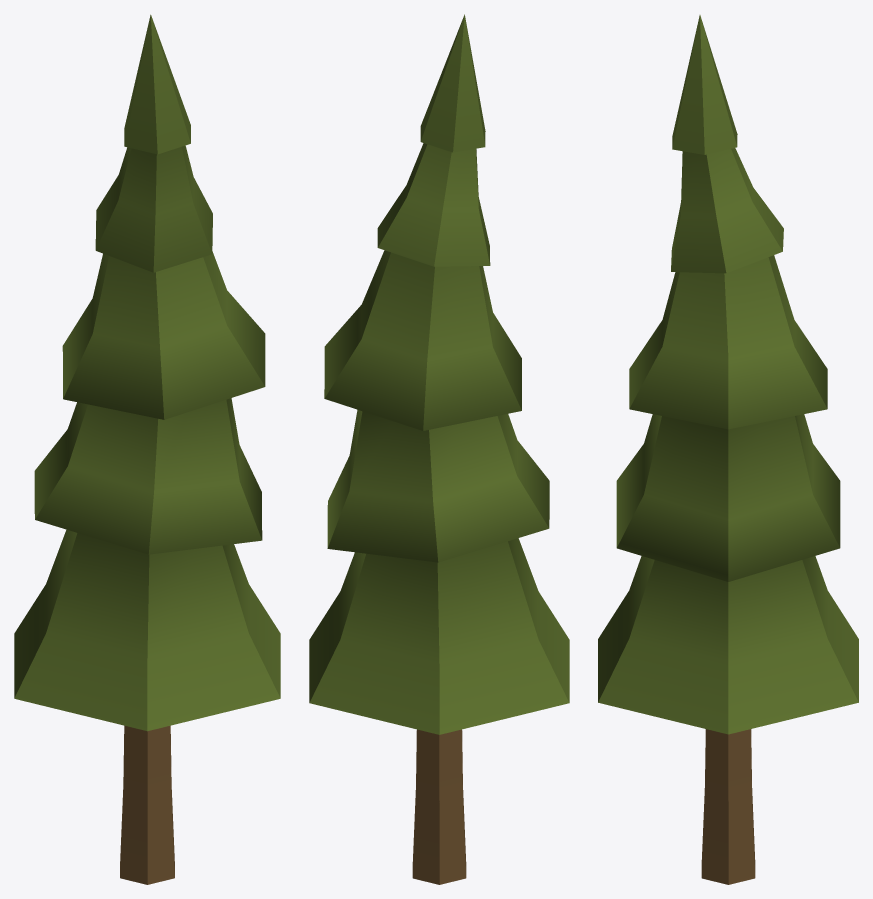
The model's file is Spruce.fbx.
The picture shows the model from 3 angles, left to right: view 1: azimuth 30°, elevation 25°; view 2: azimuth 150°, elevation 25°; view 3: azimuth 270°, elevation 25°; orthographic projection. The views are drawn at different scales.
Visible parts, largest first — view 1: Spruce; view 2: Spruce; view 3: Spruce.
Part boxes in pixels (x1,y1,x2,y2): Spruce: (14,14,280,884); Spruce: (309,14,569,884); Spruce: (598,15,858,884).
Bounding box in the file's own units: 4.85 × 15.14 × 4.2.
